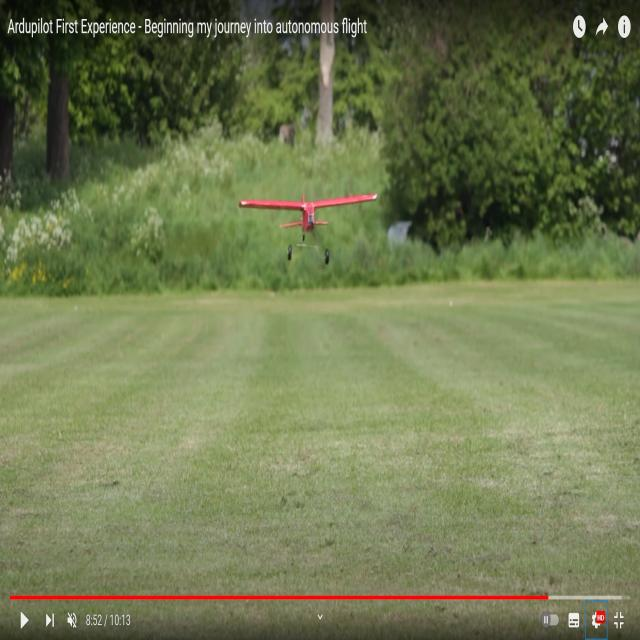iha: (243, 212, 375, 216)
